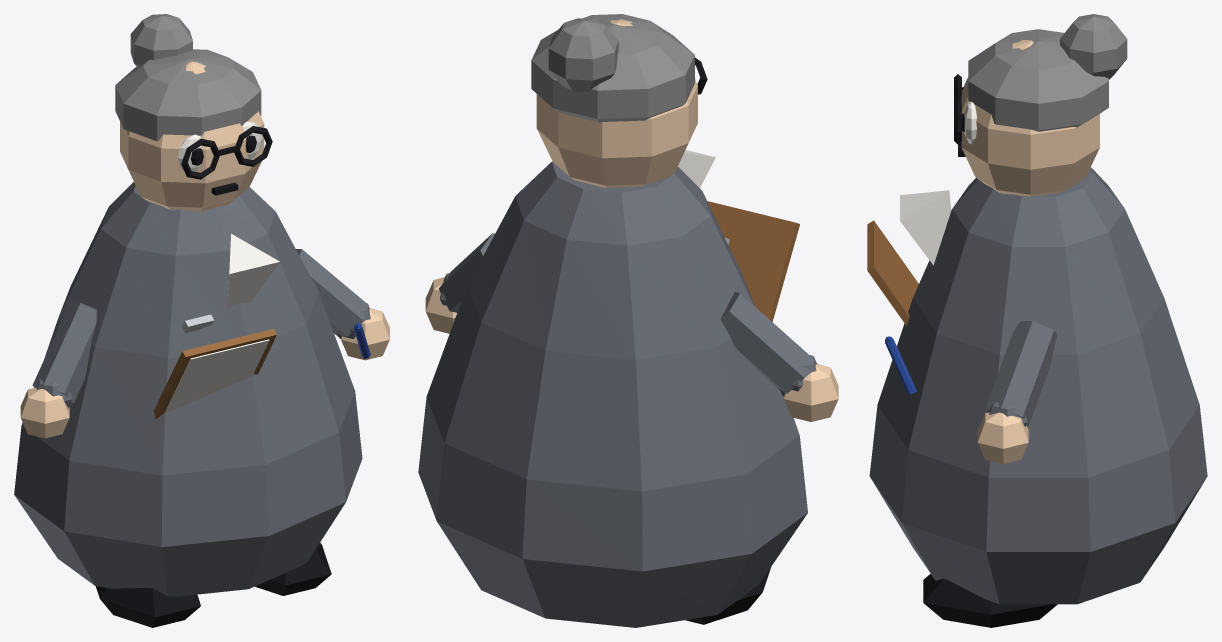
The model's file is npc_inspectora.glb.
The picture shows the model from 3 angles, left to right: view 1: azimuth 30°, elevation 25°; view 2: azimuth 150°, elevation 25°; view 3: azimuth 270°, elevation 25°; orthographic projection. The views are drawn at different scales.
Visible parts, largest first — view 1: body_grey_suit, head_hair_grey, head_skin_crema, arms_grey_suit, legs_black, props_white, arms_skin_crema, body_white, face_black, props_clipboard, face_white; view 2: body_grey_suit, head_hair_grey, head_skin_crema, arms_grey_suit, props_clipboard, arms_skin_crema, legs_black, body_white; view 3: body_grey_suit, head_hair_grey, head_skin_crema, arms_grey_suit, legs_black, props_clipboard, body_white, arms_skin_crema, face_black, props_pen_blue, face_white.
Boxes of the visible parts, box(x1,y1,x2,y2) form: body_grey_suit: box(14, 182, 362, 596); head_hair_grey: box(115, 14, 261, 141); head_skin_crema: box(120, 61, 264, 211); arms_grey_suit: box(32, 249, 370, 408); legs_black: box(95, 543, 331, 627); props_white: box(165, 339, 269, 413); arms_skin_crema: box(20, 308, 389, 438); body_white: box(227, 233, 279, 308); face_black: box(181, 126, 272, 195); props_clipboard: box(154, 329, 276, 419); face_white: box(178, 122, 262, 171); body_grey_suit: box(418, 161, 807, 627); head_hair_grey: box(531, 14, 694, 122); head_skin_crema: box(536, 19, 697, 187); arms_grey_suit: box(439, 233, 816, 395); props_clipboard: box(707, 201, 799, 321); arms_skin_crema: box(425, 277, 838, 421); legs_black: box(685, 567, 770, 624); body_white: box(678, 150, 715, 187); body_grey_suit: box(869, 167, 1207, 604); head_hair_grey: box(968, 14, 1127, 131); head_skin_crema: box(961, 40, 1099, 196); arms_grey_suit: box(985, 321, 1057, 426); legs_black: box(923, 574, 1057, 627); props_clipboard: box(867, 220, 918, 325); body_white: box(900, 190, 951, 265); arms_skin_crema: box(977, 412, 1028, 463); face_black: box(954, 74, 965, 156); props_pen_blue: box(885, 336, 916, 395); face_white: box(964, 76, 976, 144).
Bounding box in the file's own units: 1.13 × 1.6 × 0.8657.
